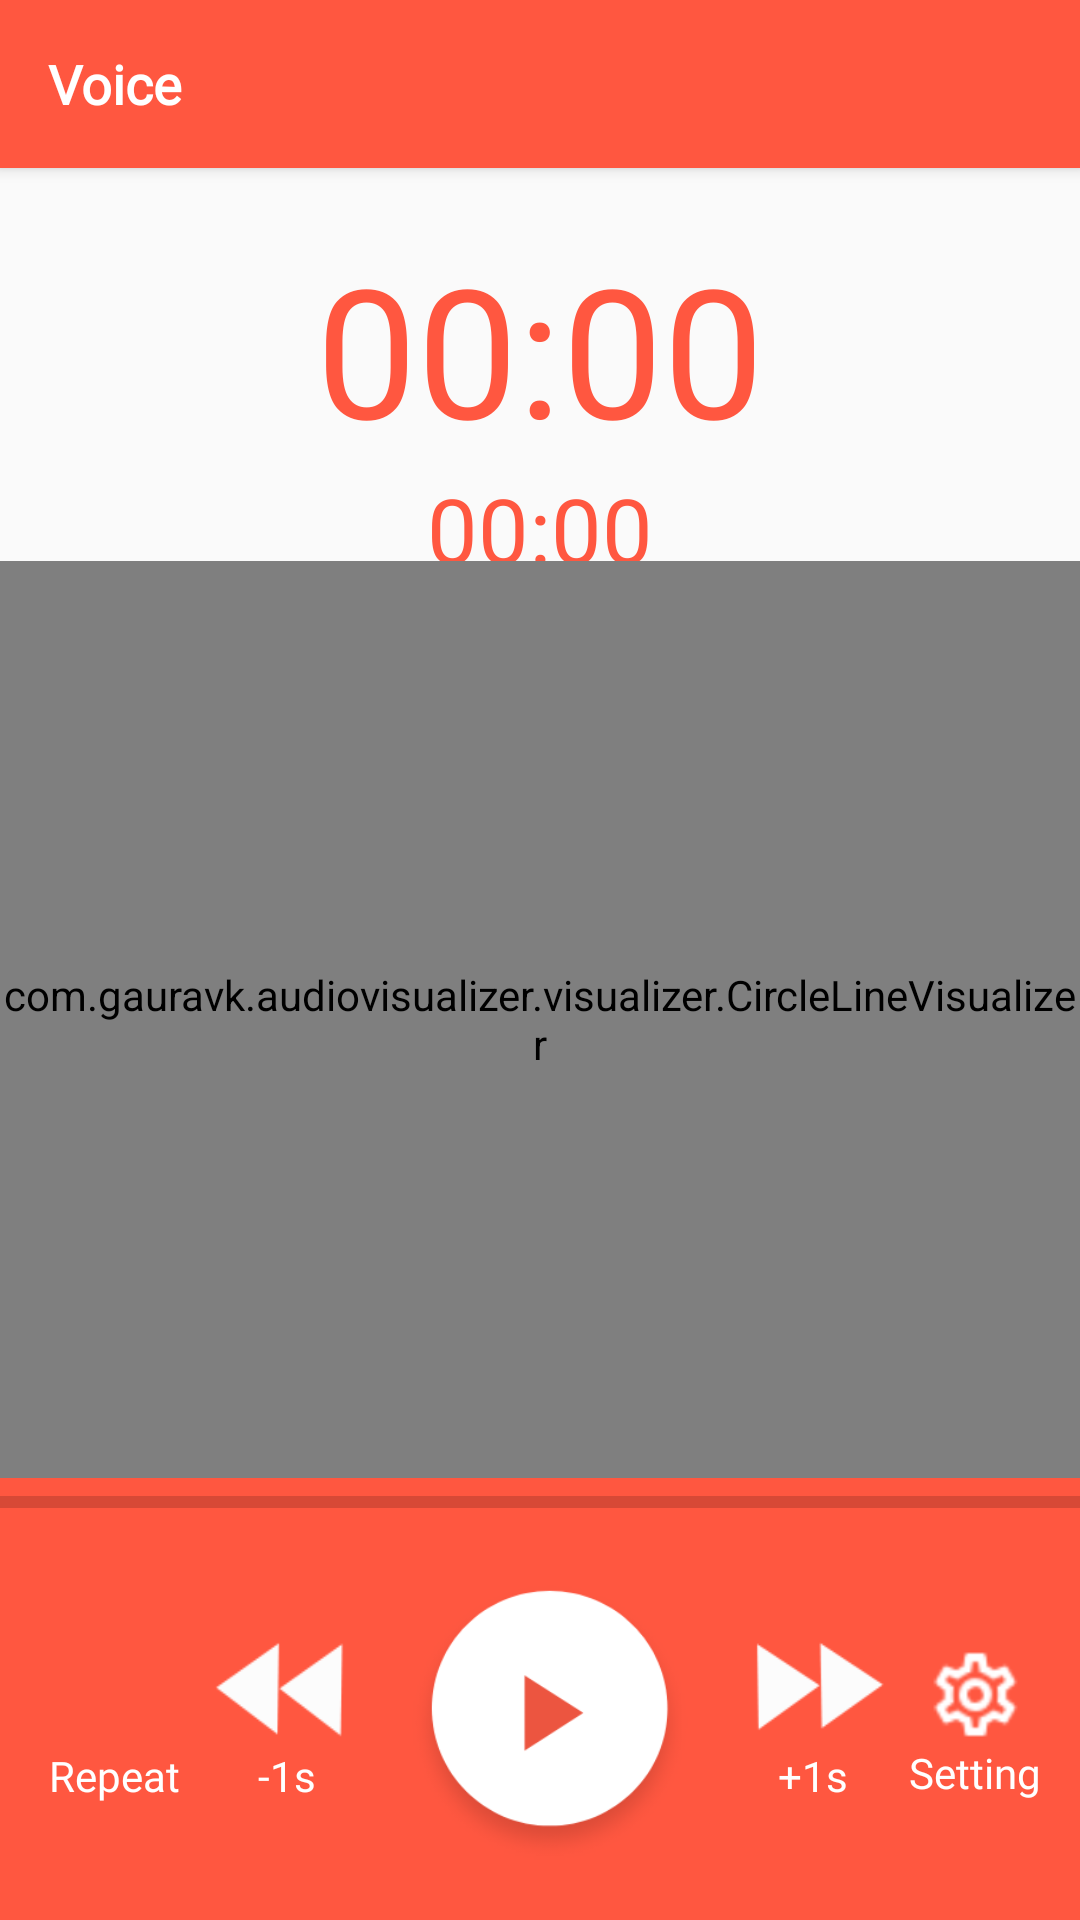

Where icons sit on this 1080px×1920px app screen, as [x1=x1, y1=y1, x2=x2, y2=y2]:
next: [x1=757, y1=1643, x2=883, y2=1730]
play: [x1=431, y1=1590, x2=668, y2=1836]
prev: [x1=216, y1=1643, x2=343, y2=1736]
